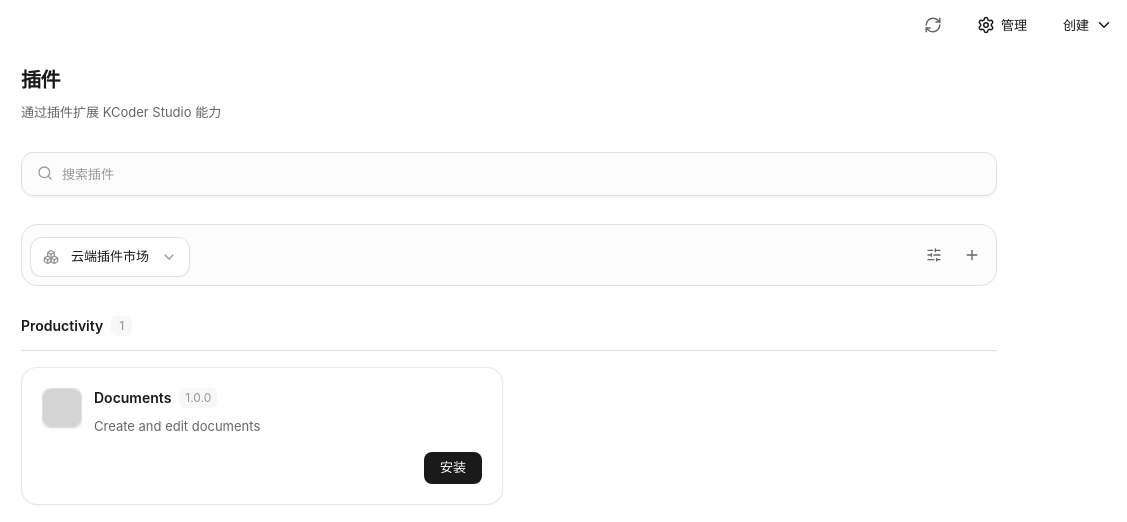
Scenario: PluginsWorkspace › filters the plugin marketplace from the search box
The image size is (1127, 522).
Expected: the heading "Documents" is shown, [94, 388, 171, 408]
Type "missing" into the field with test id "plugins-search-input" at [509, 174], box [21, 152, 997, 196]
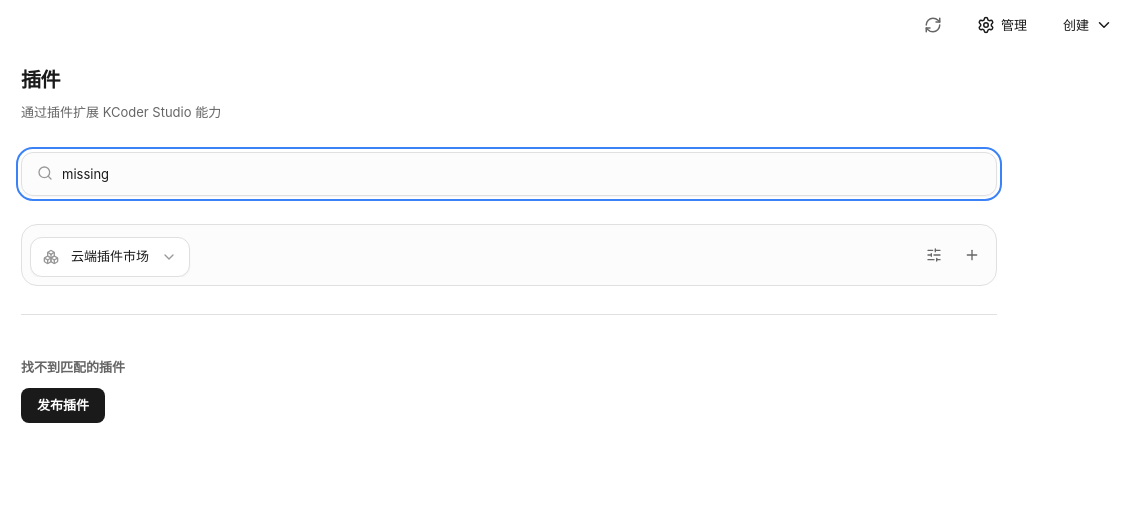
Expected: the text "找不到匹配的插件" is shown, [21, 358, 125, 376]
Expected: the button "Documents" is gone
